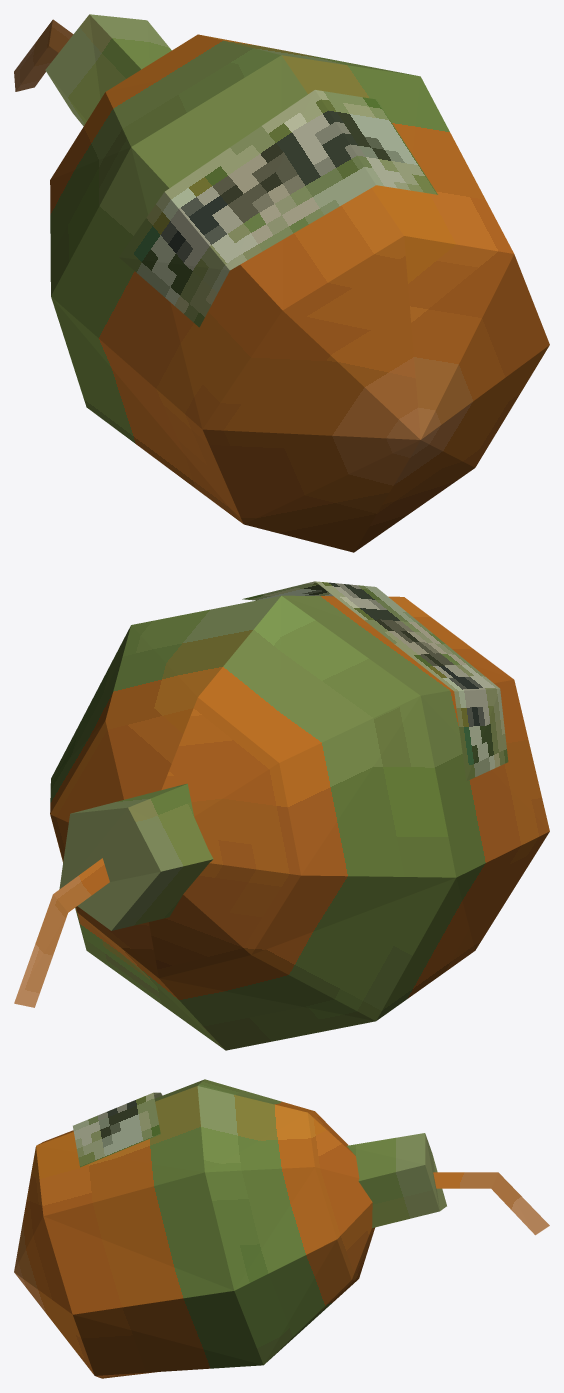
The model's file is WF_grenade.obj.
3 views of the same model, one above another, from view 1: azimuth 30°, elevation 25°; view 2: azimuth 150°, elevation 25°; view 3: azimuth 270°, elevation 25° (orthographic). The views are drawn at different scales.
Visible parts, largest first — view 1: Node 0; view 2: Node 0; view 3: Node 0.
Part boxes in pixels (left/top/right/bottom): Node 0: left=14, top=14, right=549, bottom=552; Node 0: left=14, top=581, right=549, bottom=1050; Node 0: left=14, top=1079, right=549, bottom=1378.
Bounding box in the file's own units: 0.42 × 0.44 × 0.73.
Materials: 1 (1 with a texture image).
